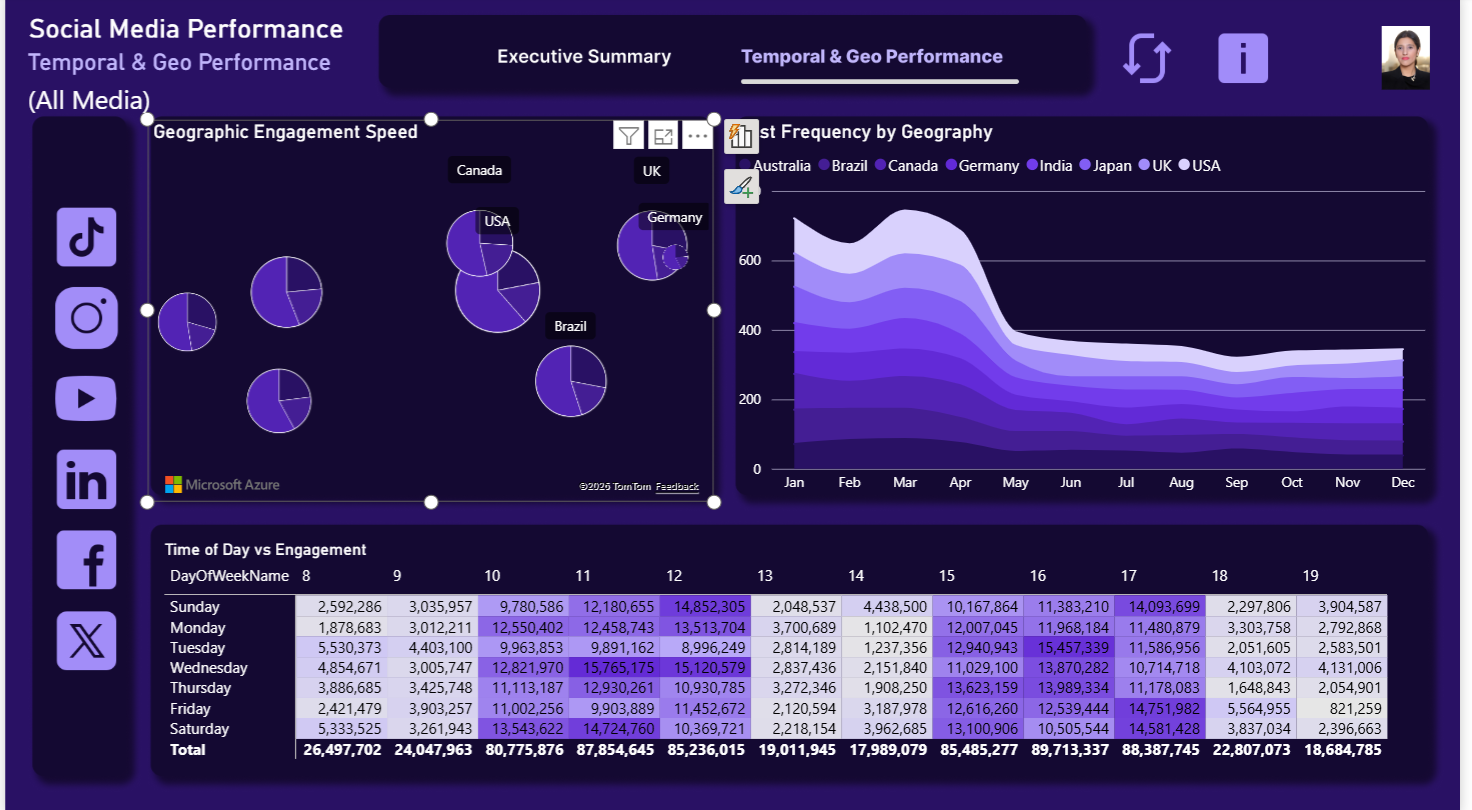

The page's visual inventory and layout, read from the dashboard file:
{"tool":"powerbi","page":{"name":"Temporal & Geo Performance ","canvas":[1280,720],"ordinal":1},"visuals":[{"type":"map","title":"Geographic Engagement Speed","fields":{"Category":["Location.Region"],"Series":["Posts.Engagement_Level"],"Size":["Key Measures.Total Engagement"],"X":["Avg(Location.Longitude)"],"Y":["Avg(Location.Latitude)"]},"box":[125,108.3,498.8,336.9],"z":0},{"type":"stackedAreaChart","title":"Post Frequency by Geography","fields":{"Category":["Dates.ShortMonth","Dates.Date.Variation.Date Hierarchy.Day"],"Series":["Location.Region"],"Y":["Key Measures.Total Posts"]},"box":[640.5,108.3,614.3,336.9],"z":2},{"type":"pivotTable","title":"Time of Day vs Engagement","fields":{"Columns":["Posts.Post_Hour"],"Rows":["Dates.DayOfWeekName"],"Values":["Key Measures.Total Engagement"]},"box":[135.4,478.2,1112.2,209.7],"z":3},{"type":"advancedSlicerVisual","fields":{"Values":["Icon Image.Image URL"]},"box":[40,184,64,416],"z":4},{"type":"shape","title":"Social Media Performance","box":[20.4,14.4,299.6,22.8],"z":5},{"type":"shape","title":"Temporal & Geo Performance","box":[20.2,46.2,291.4,60.6],"z":6},{"type":"image","box":[1206.1,26,51.9,56.3],"z":7},{"type":"image","box":[978.2,26,51.9,56.3],"z":8},{"type":"image","box":[1063.3,26,51.9,56.3],"z":9},{"type":"actionButton","box":[375.1,14.5,248.2,63.4],"z":10}]}

Visuals, with their boxes in screenshot pixels (x1, y1, x2, y2), scaled from the page's 1280x720 canvas onto the 1472x810 screenshot:
"Geographic Engagement Speed" map: box(144, 122, 717, 501)
"Post Frequency by Geography" stackedAreaChart: box(737, 122, 1443, 501)
"Time of Day vs Engagement" pivotTable: box(156, 538, 1435, 774)
advancedSlicerVisual - Icon Image.Image URL: box(46, 207, 120, 675)
"Social Media Performance" shape: box(23, 16, 368, 42)
"Temporal & Geo Performance" shape: box(23, 52, 358, 120)
image: box(1387, 29, 1447, 93)
image: box(1125, 29, 1185, 93)
image: box(1223, 29, 1282, 93)
actionButton: box(431, 16, 717, 88)
